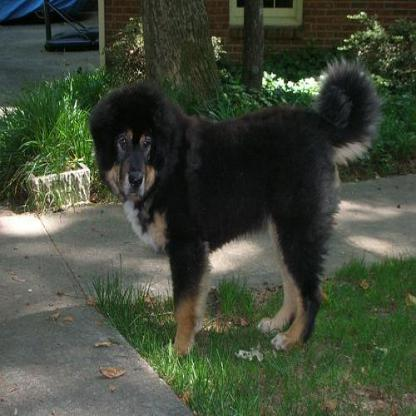Tibetan_mastiff: (86, 53, 381, 365)
